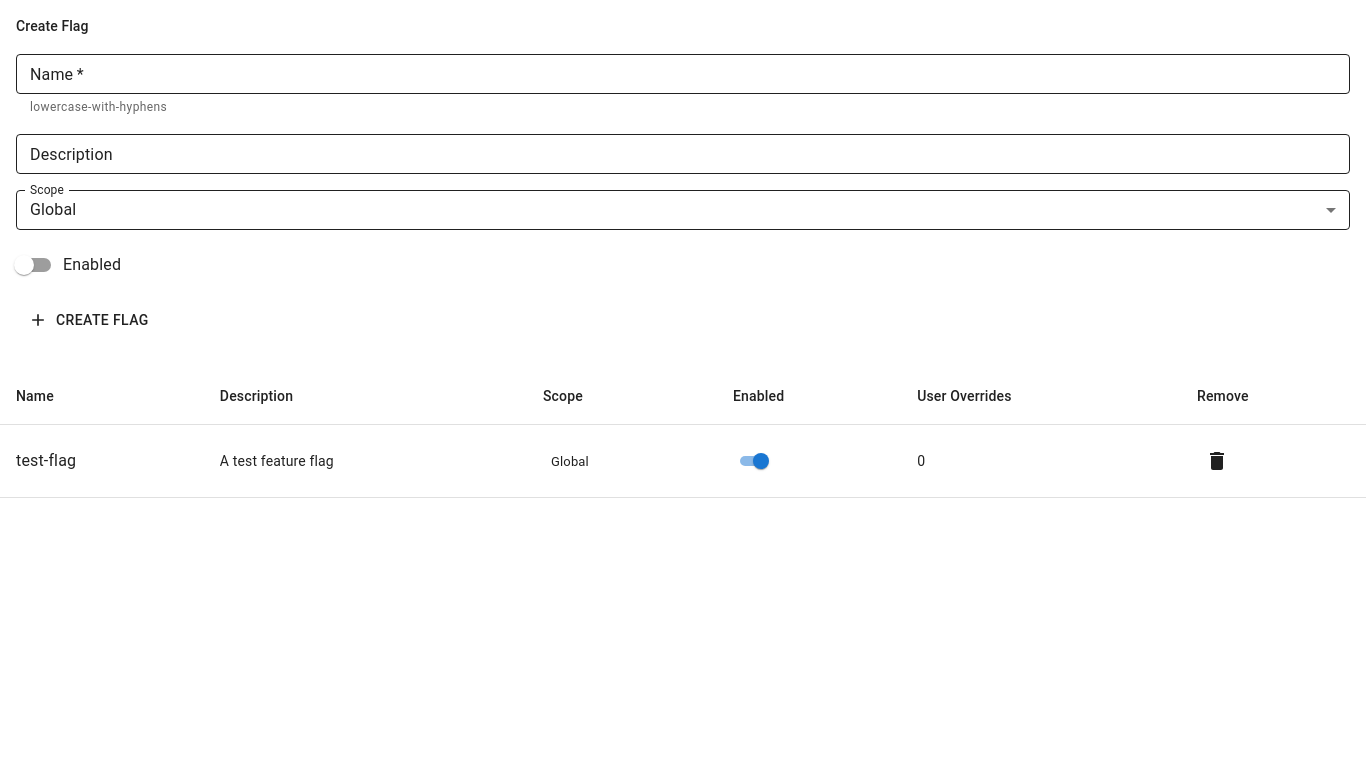
it: FeatureFlagsAdminClient › opens delete dialog
The width and height of the screenshot is (1366, 768).
Step 1. Click the button named "Delete Flag" → [1217, 461], box [1197,441,1237,481]
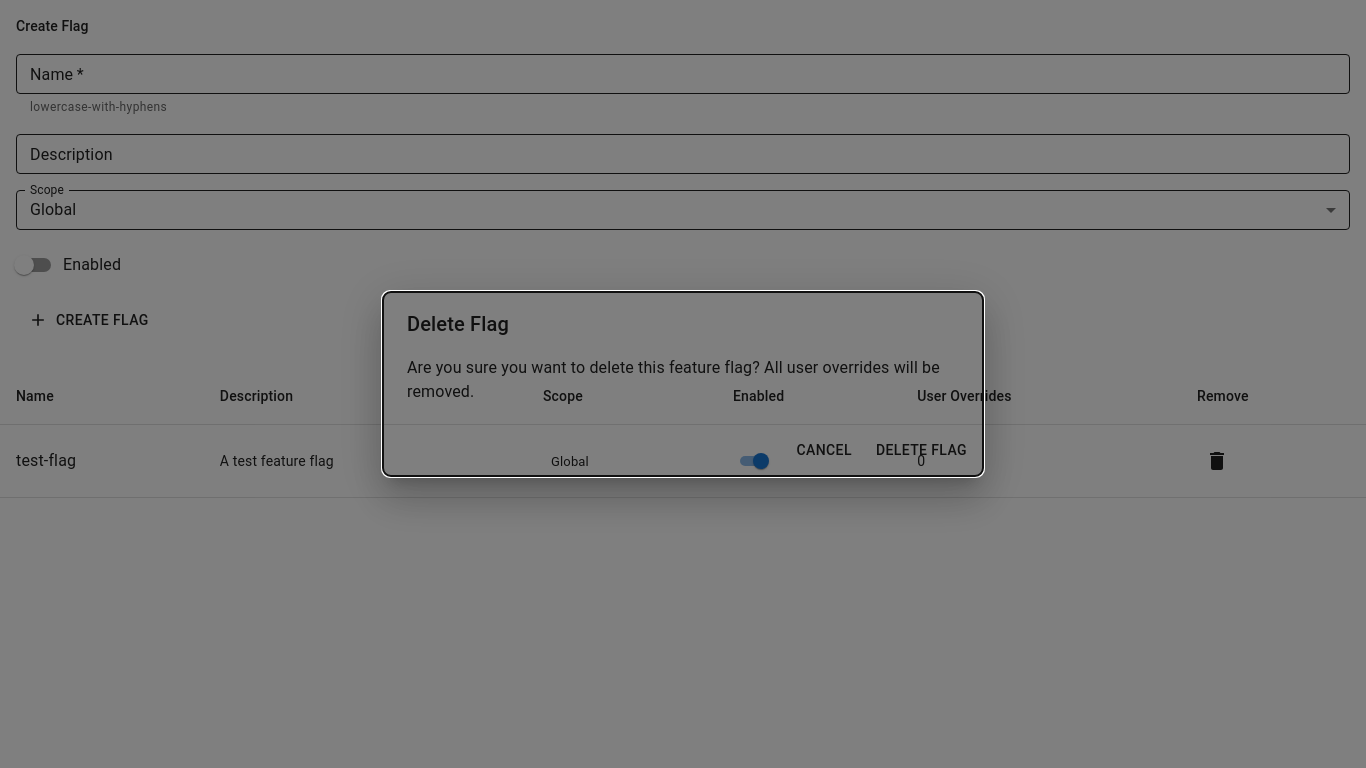
expect the text "Are you sure you want to delete this feature flag" is shown: met, box [407,358,940,401]
